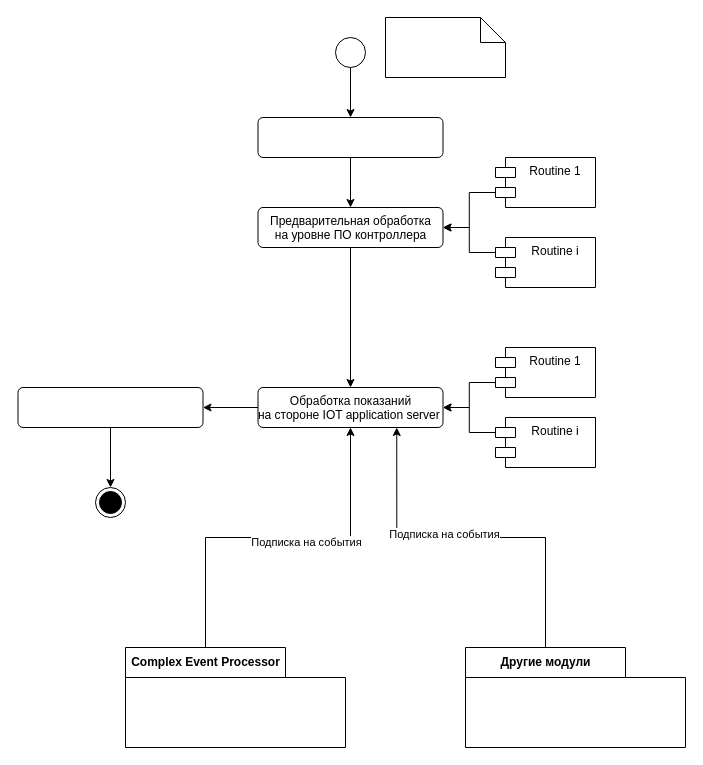
The diagram is 703 pixels wide and 765 high, and some of its shapes have lost their labels. The shapes that lost their labels are listed below. From the top down, each one's centre as x and y in pixels, then its label:
At (x=445, y=47): "Получение данных с датчика".
At (x=350, y=137): "Датчик снимает показания".
At (x=110, y=407): "Журналирование показаний в таблицу IODeviceLogs".
